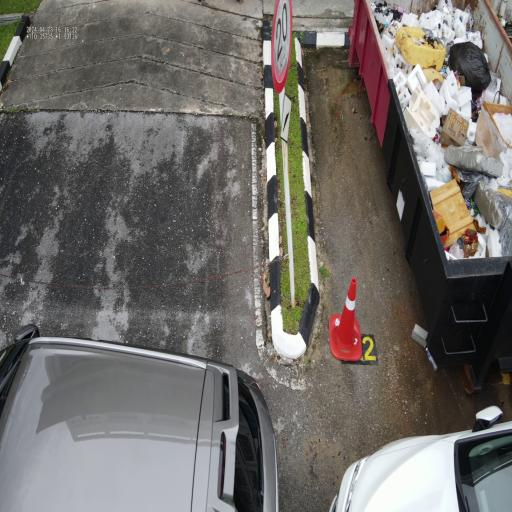Illegal: (0, 321, 281, 512), (326, 404, 512, 512)
